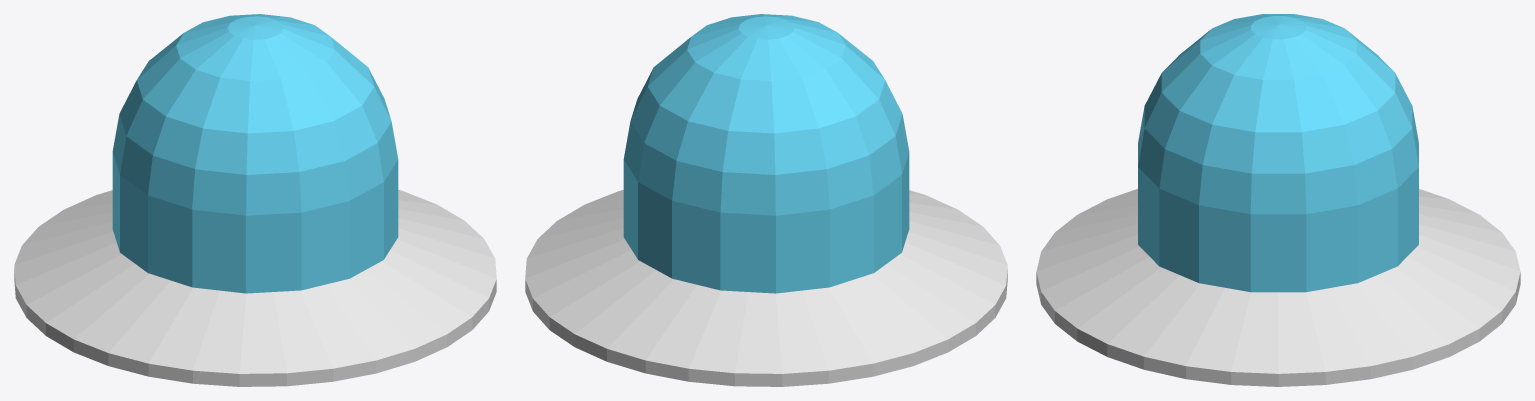
The model's file is Ufo.fbx.
3 views of the same model, side by side, from view 1: azimuth 30°, elevation 25°; view 2: azimuth 150°, elevation 25°; view 3: azimuth 270°, elevation 25° (orthographic).
Parts seen in each view (by area): view 1: Cylinder; view 2: Cylinder; view 3: Cylinder.
Boxes of the visible parts, x1,y1,x2,y2 form: Cylinder: (14,14,496,386); Cylinder: (525,14,1007,386); Cylinder: (1036,14,1520,386).
Size of the model in its own units: 627 by 457 by 627.
